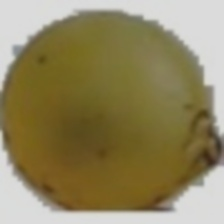grapes: (24, 10, 191, 186)
